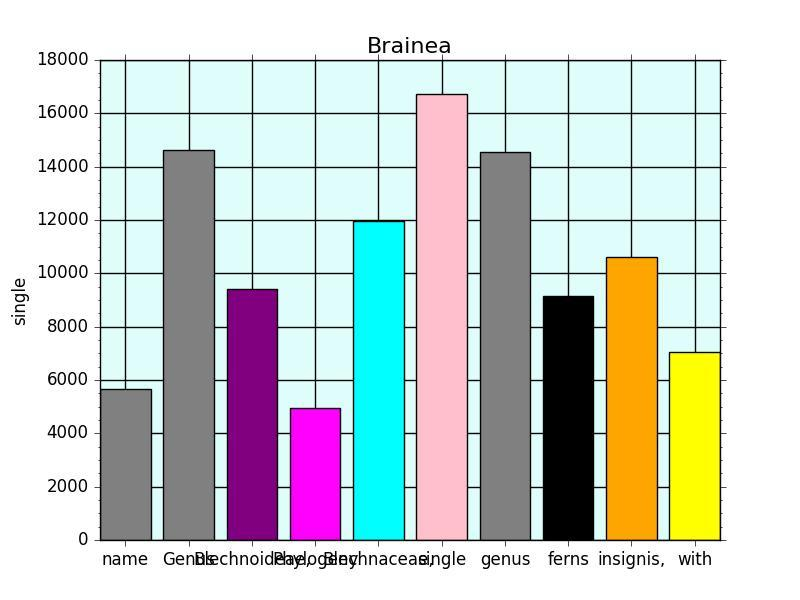axis: (12, 52, 88, 548)
rectangle: (416, 94, 467, 540), (163, 150, 214, 540), (480, 152, 530, 540), (353, 221, 404, 540), (606, 257, 657, 540), (226, 289, 278, 540), (542, 296, 594, 540), (669, 352, 720, 540), (100, 389, 151, 540), (290, 408, 340, 540)
